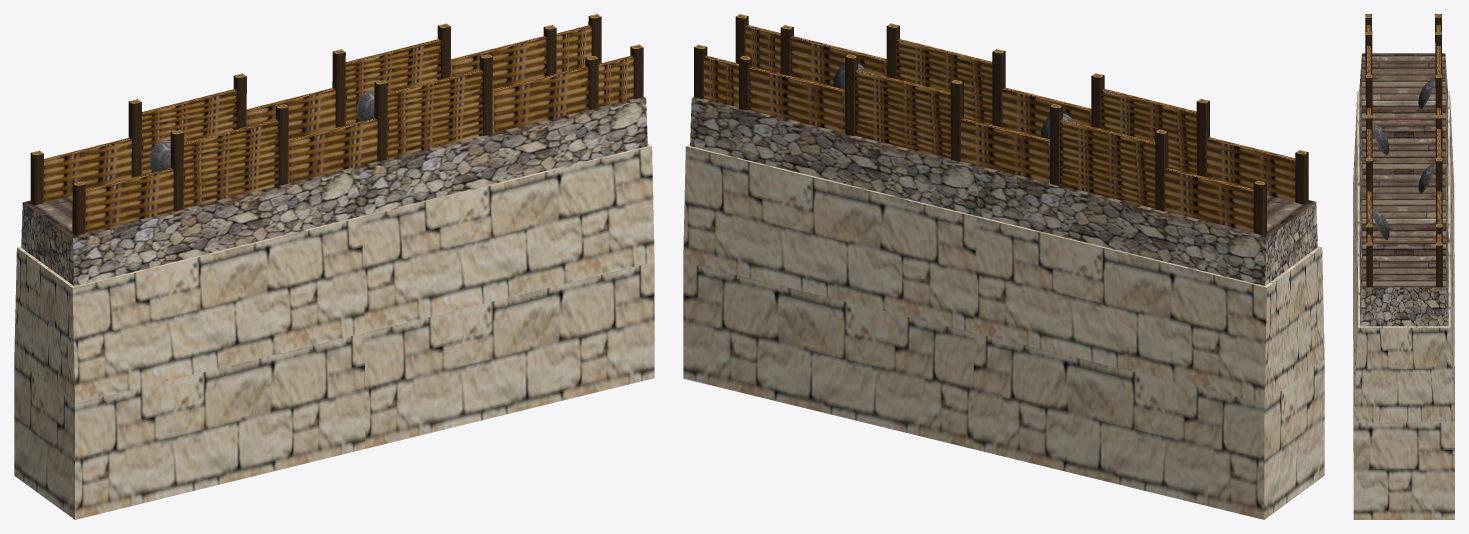
File: wall_long.dae
The picture shows the model from 3 angles, left to right: view 1: azimuth 30°, elevation 25°; view 2: azimuth 150°, elevation 25°; view 3: azimuth 270°, elevation 25°; orthographic projection. The views are drawn at different scales.
Parts seen in each view (by area): view 1: wall_long; view 2: wall_long; view 3: wall_long.
Part boxes in pixels (x1,y1,x2,y2): wall_long: (14,14,654,519); wall_long: (683,14,1324,519); wall_long: (1353,14,1454,519).
Bounding box in the file's own units: 34.3 × 6.24 × 19.97.
